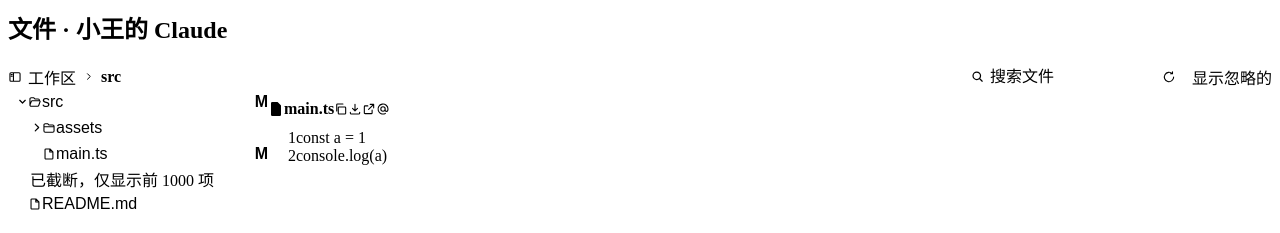
files tab › collapses and expands the tree when wide, keeping the file in view
Expected: the text "console.log(a)" is shown, x1=296 y1=147 x2=387 y2=165
Step 1. Click the button named "目录" → click(15, 77), box x1=8 y1=70 x2=22 y2=84
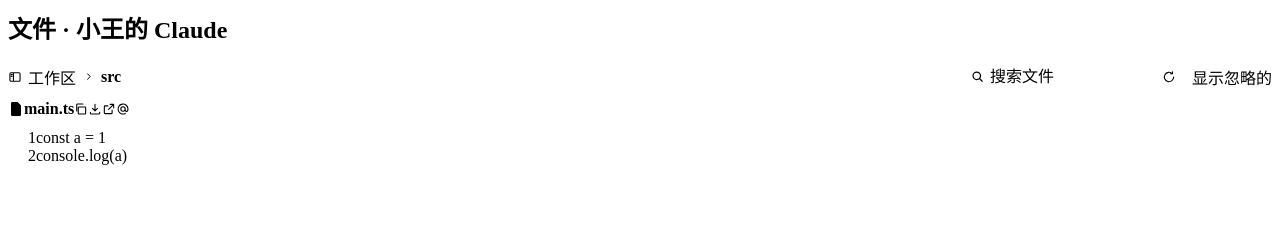
Expected: the element showing "1 const a = 1 2 console.log(a)" is shown, x1=28 y1=129 x2=127 y2=164
Step 2. Click the button named "目录" → click(15, 77), box x1=8 y1=70 x2=22 y2=84
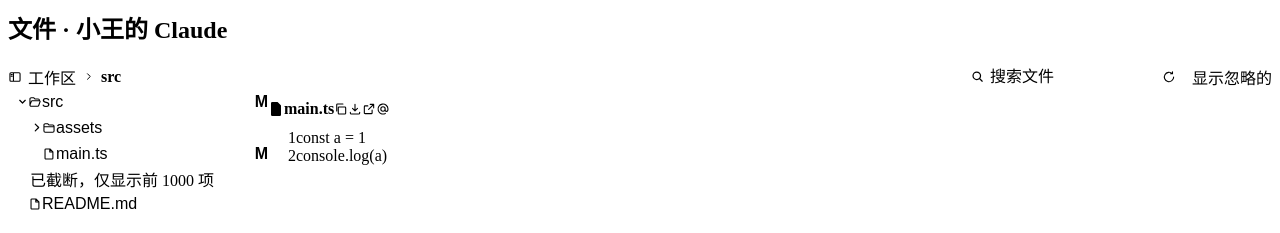
Now the element named "文件" is shown, box x1=8 y1=89 x2=268 y2=217
